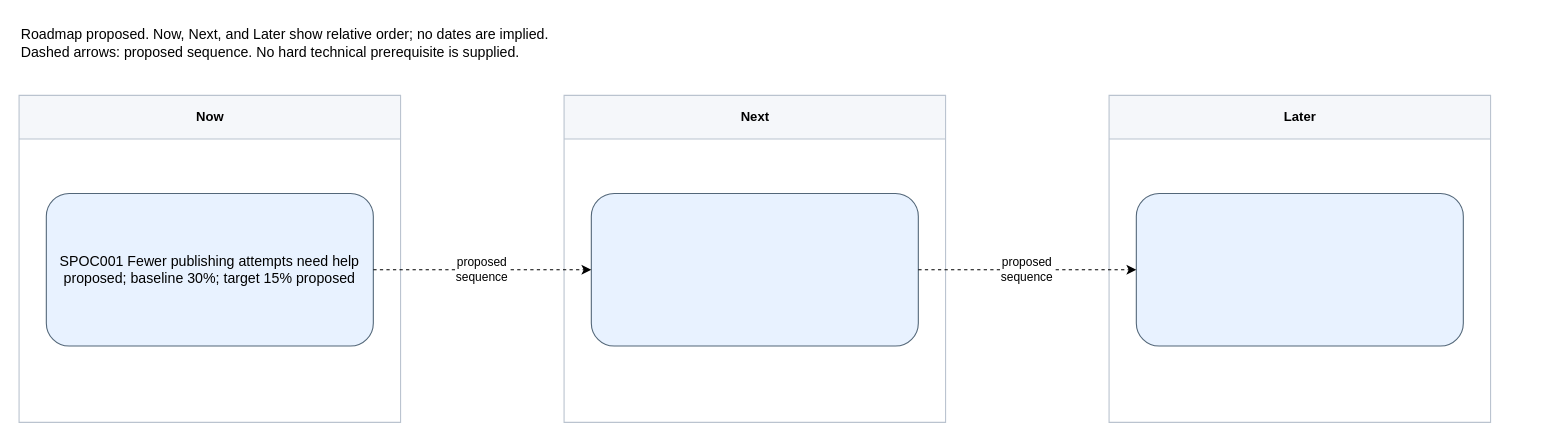
The diagram is 1564 pixels wide and 441 high, and some of its shapes have lost their labels. The shapes that lost their labels are listed below. From the top down, each one's centre as x and y in pixels, then its label:
At (x=754, y=269): "SPOC002 Faster first publication proposed; baseline and target unknown".
At (x=1299, y=269): "SPOC003 Approved content stays current proposed; baseline and target unknown".
